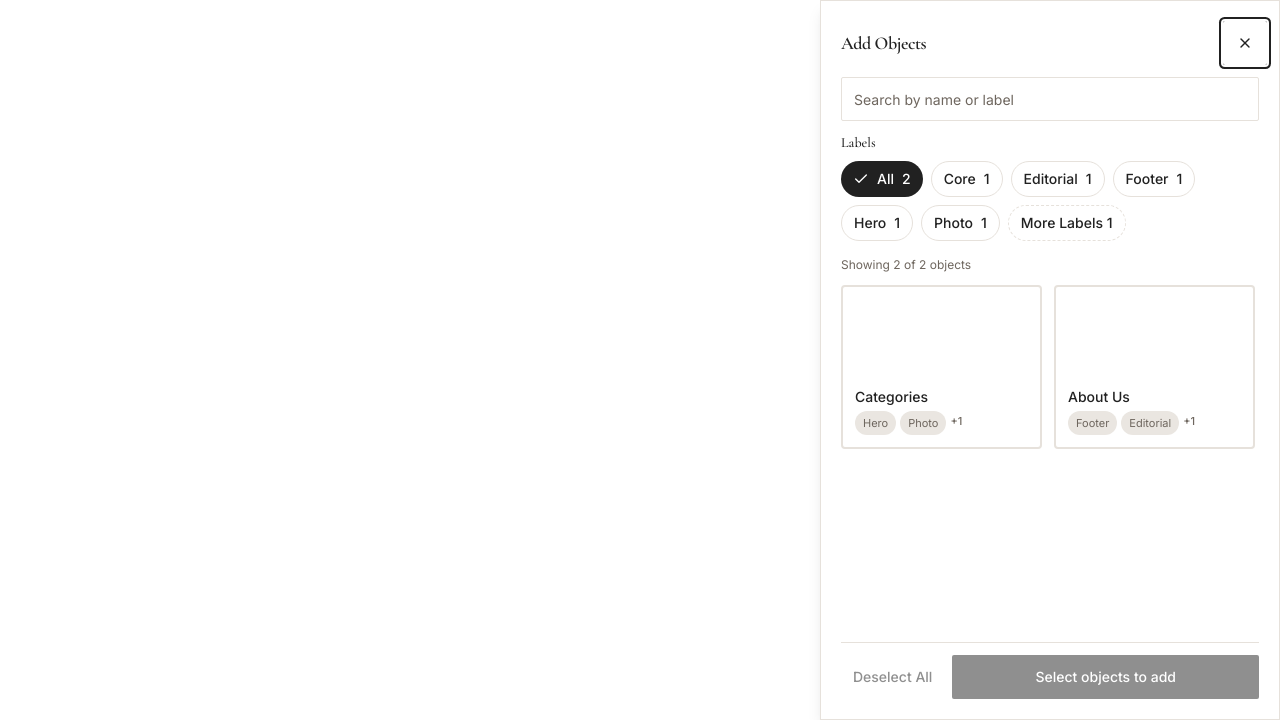
Test: toggles thumbnails without adding or closing and adds all chosen objects together
Later steps or results of the test are not shown.
Step 1. Click the button "Categories Hero Photo +1" → [942, 367], box left=841, top=285, right=1042, bottom=449
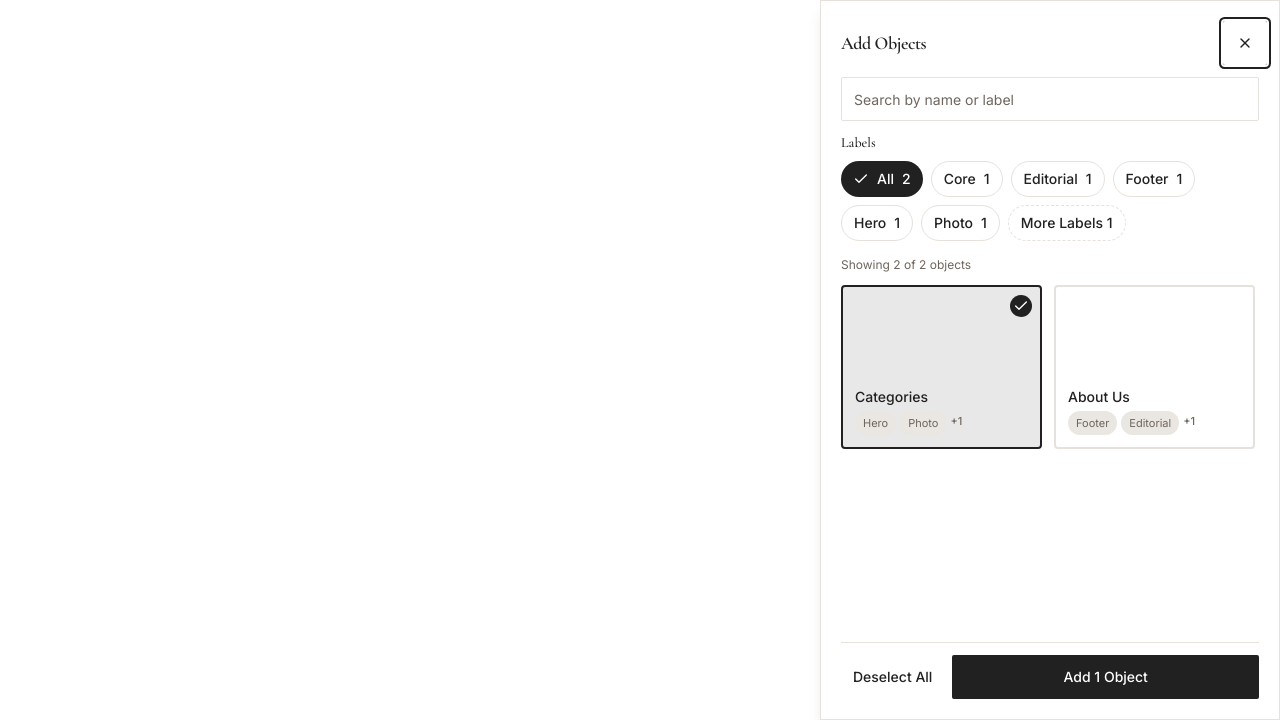
Step 2. Click the button "About Us Footer Editorial +1" → [1154, 367], box left=1054, top=285, right=1255, bottom=449
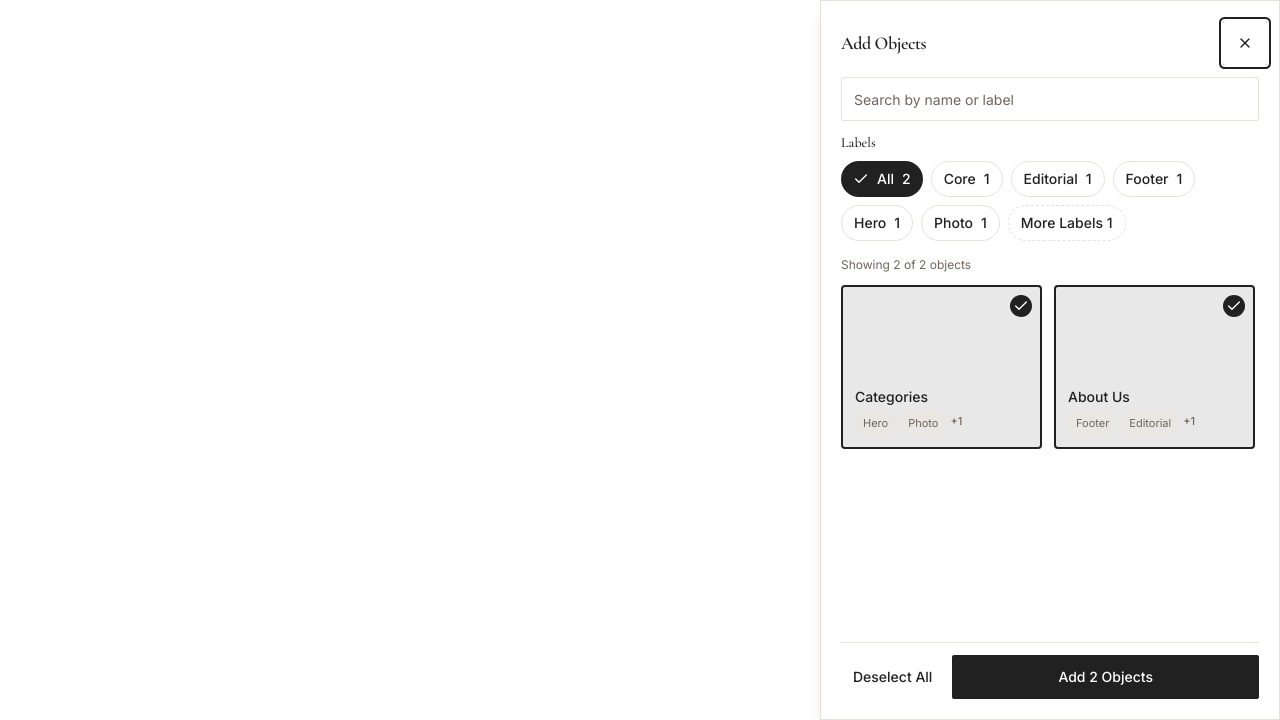
Step 3. Click the button "Deselect All" → [893, 677], box left=841, top=655, right=944, bottom=699
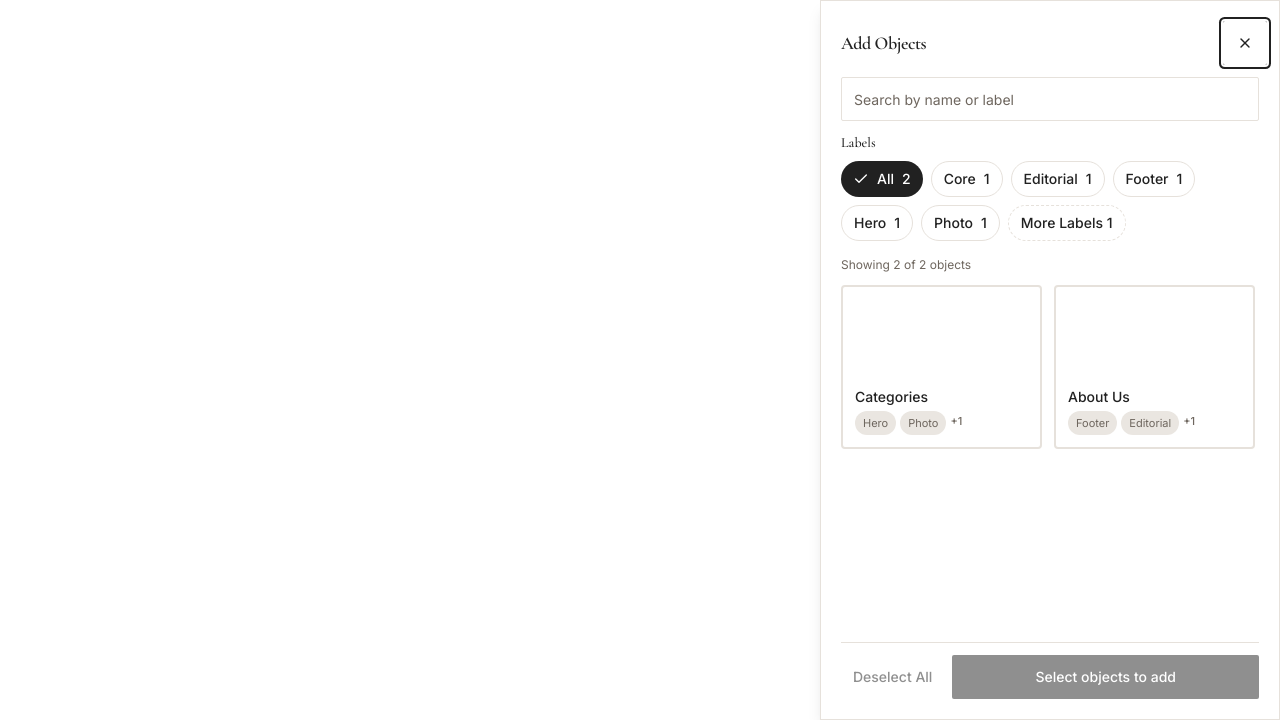
Expected: the button "Select objects to add" is disabled, left=952, top=655, right=1259, bottom=699
